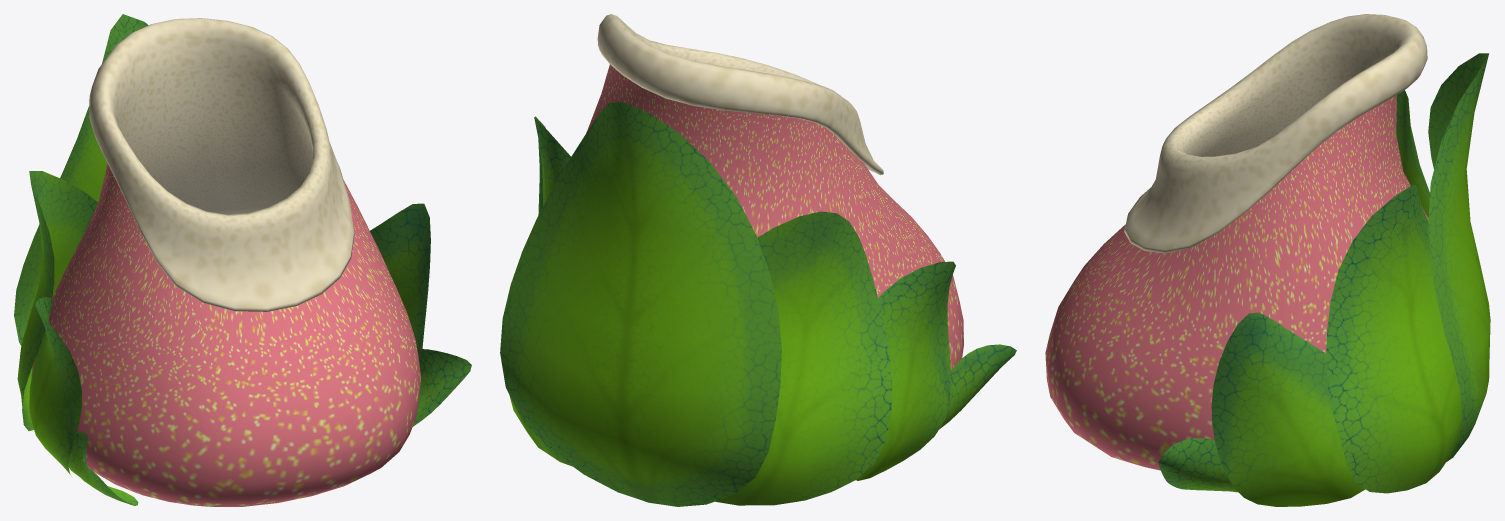
The model's file is NepenthesV2.fbx.
3 views of the same model, side by side, from view 1: azimuth 30°, elevation 25°; view 2: azimuth 150°, elevation 25°; view 3: azimuth 270°, elevation 25° (orthographic). The views are drawn at different scales.
Parts seen in each view (by area): view 1: Nepenthes_LOD0; view 2: Nepenthes_LOD0; view 3: Nepenthes_LOD0.
Boxes of the visible parts, box(x1,y1,x2,y2) form: Nepenthes_LOD0: box(14, 14, 471, 506); Nepenthes_LOD0: box(500, 14, 1016, 506); Nepenthes_LOD0: box(1045, 14, 1490, 506).
Size of what is drawn, in the model's own units: 285 by 273 by 266.
